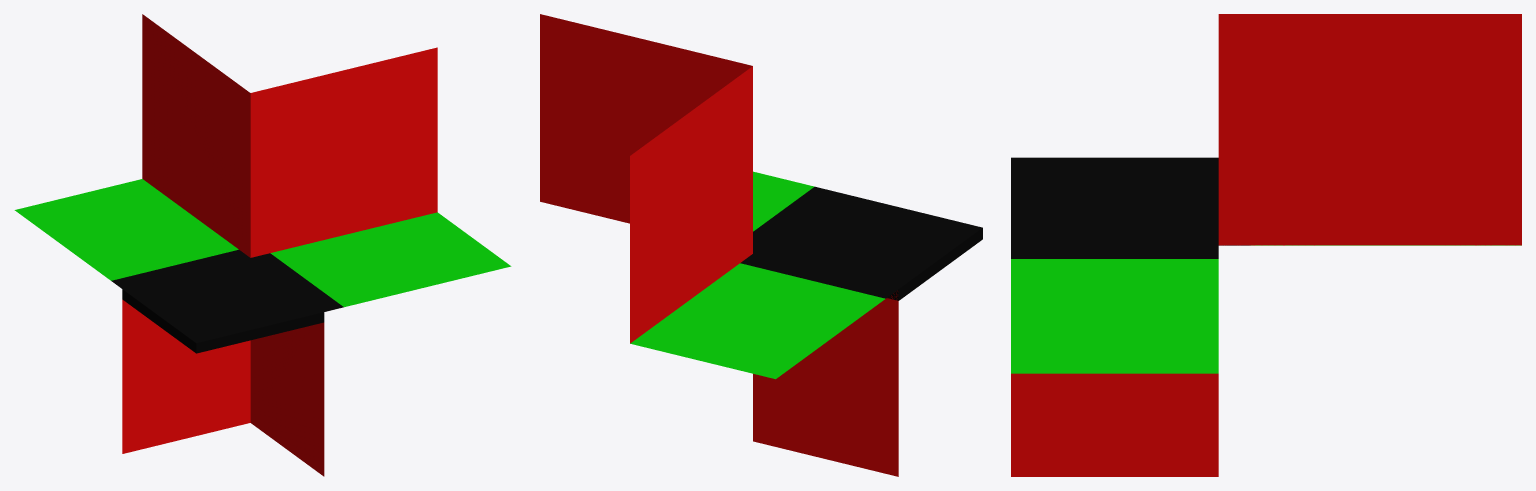
3 views of the same model, side by side, from view 1: azimuth 30°, elevation 25°; view 2: azimuth 150°, elevation 25°; view 3: azimuth 270°, elevation 25° (orthographic). The views are drawn at different scales.
Visible parts, largest first — view 1: None_A_W_A_E_W_P_E_E_None; view 2: None_A_W_A_E_W_P_E_E_None; view 3: None_A_W_A_E_W_P_E_E_None.
Boxes of the visible parts, x1=… form: None_A_W_A_E_W_P_E_E_None: x1=14, y1=14, x2=511, y2=476; None_A_W_A_E_W_P_E_E_None: x1=540, y1=14, x2=982, y2=476; None_A_W_A_E_W_P_E_E_None: x1=1011, y1=14, x2=1521, y2=476.
Size of the model in its own units: 100 by 100 by 100.
